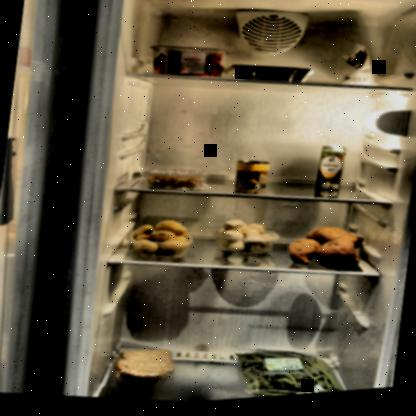corn: (233, 160, 270, 197)
green_beans: (230, 343, 353, 402)
heavy_cream: (314, 145, 348, 199)
mushrooms: (210, 216, 280, 264)
potato: (127, 214, 195, 266)
shrimp: (146, 170, 208, 197)
strawberries: (149, 43, 232, 86)
sweet_potato: (286, 222, 368, 280)
